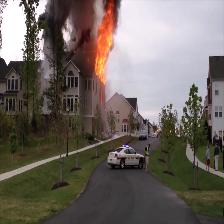fire: (47, 1, 92, 47), (97, 10, 113, 80)
